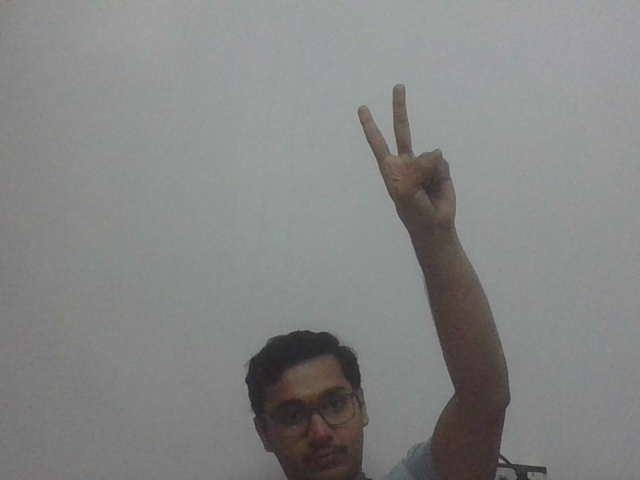V: (353, 80, 470, 236)
